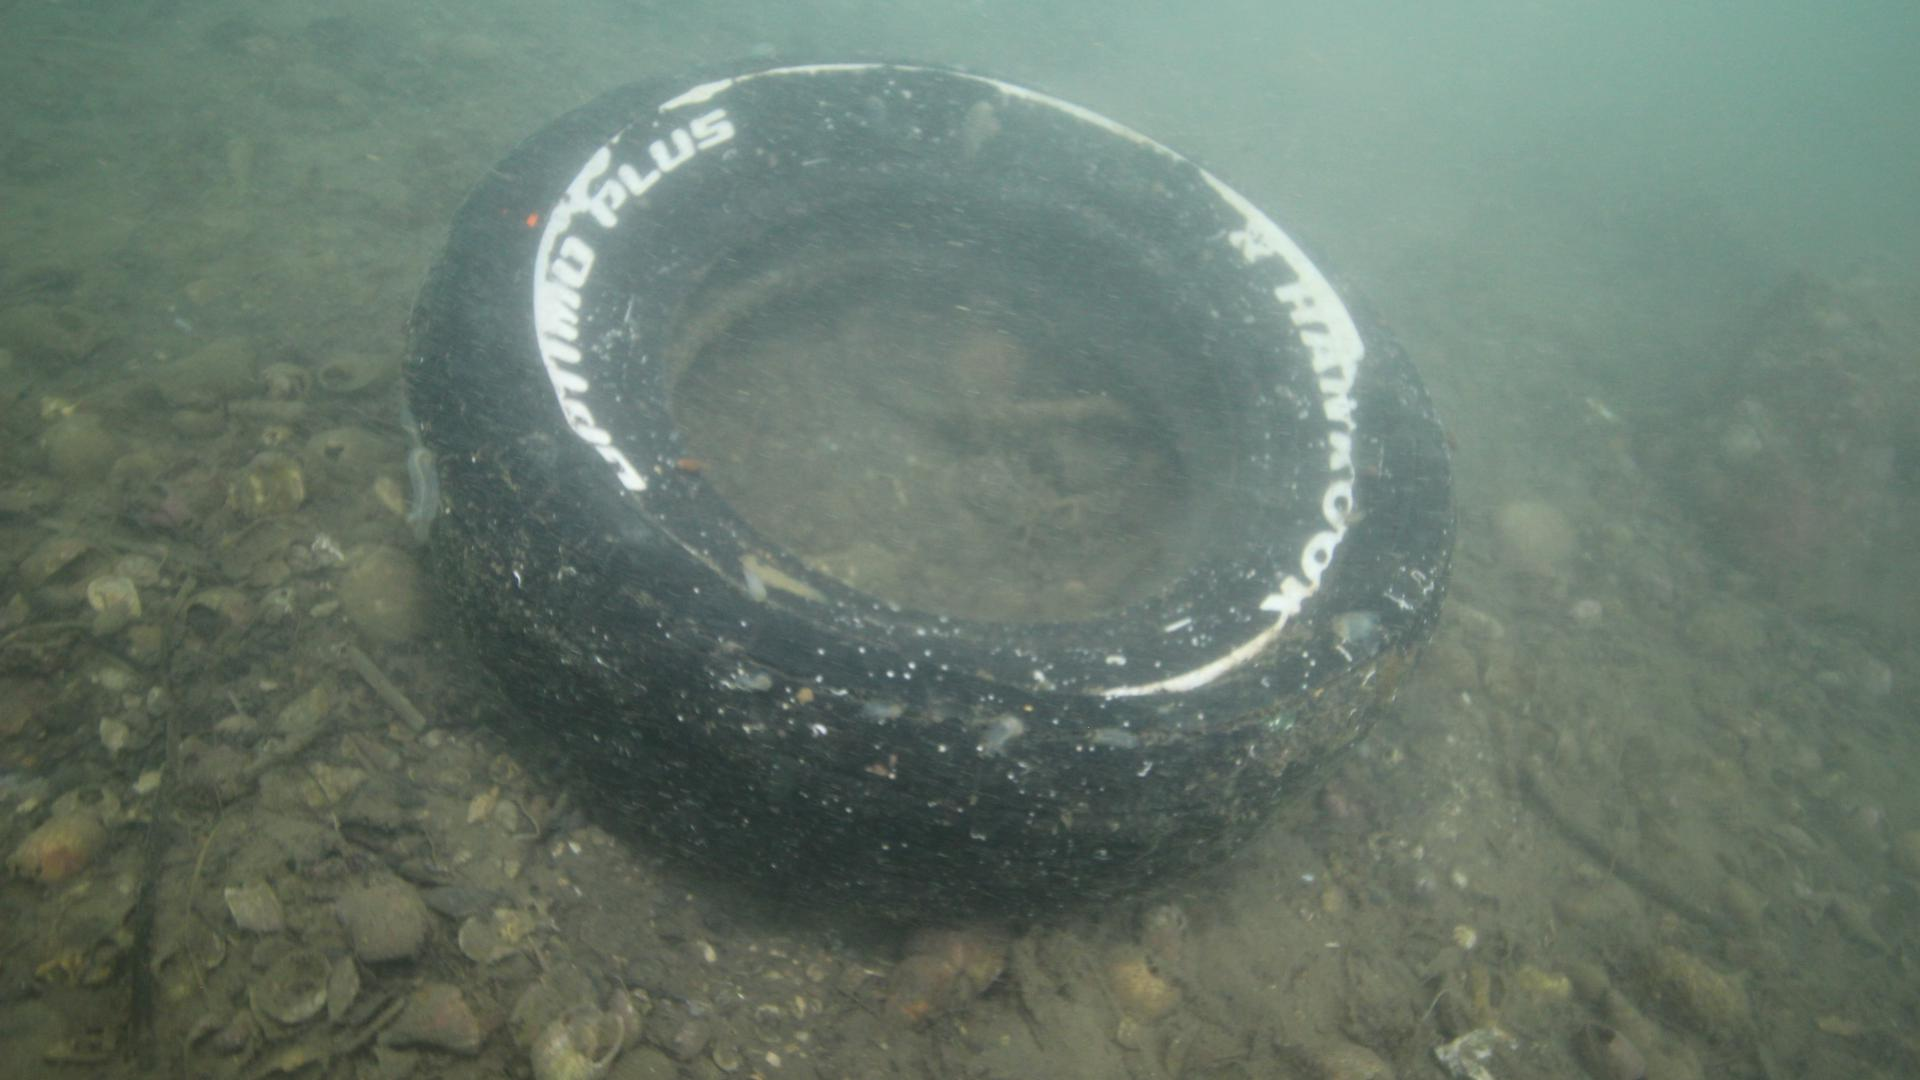tire: (396, 53, 1455, 934)
